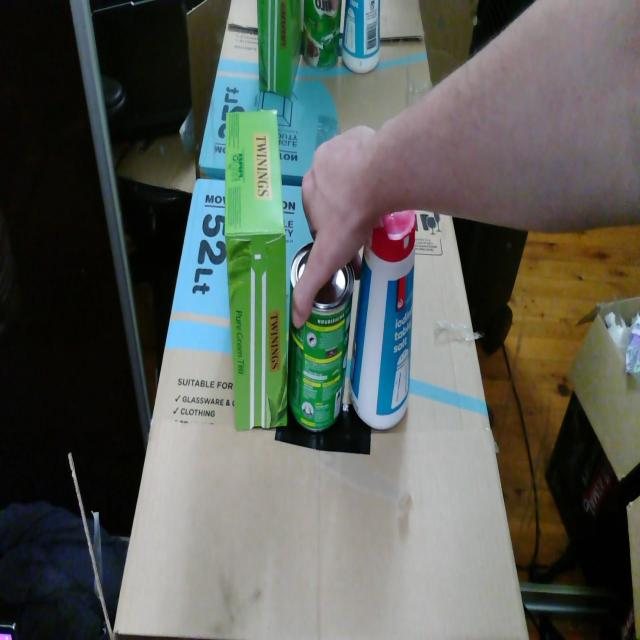nestle_milo_tin: (287, 242, 355, 431)
twinings_greentea_box: (225, 110, 287, 430)
woolworths_salt_bottle: (349, 210, 416, 430)
